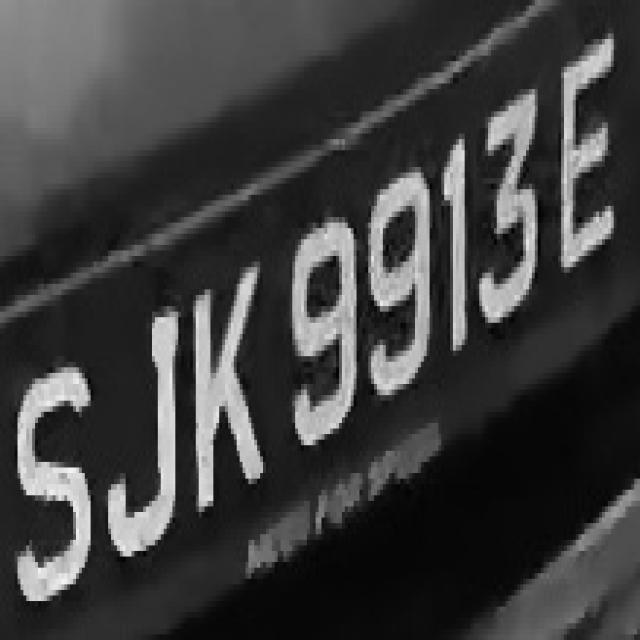1: (438, 122, 476, 362)
3: (482, 78, 538, 334)
9: (278, 206, 365, 462), (362, 161, 438, 434)
E: (544, 39, 626, 267)
J: (102, 306, 190, 579)
K: (187, 256, 266, 529)
S: (12, 340, 108, 624)
